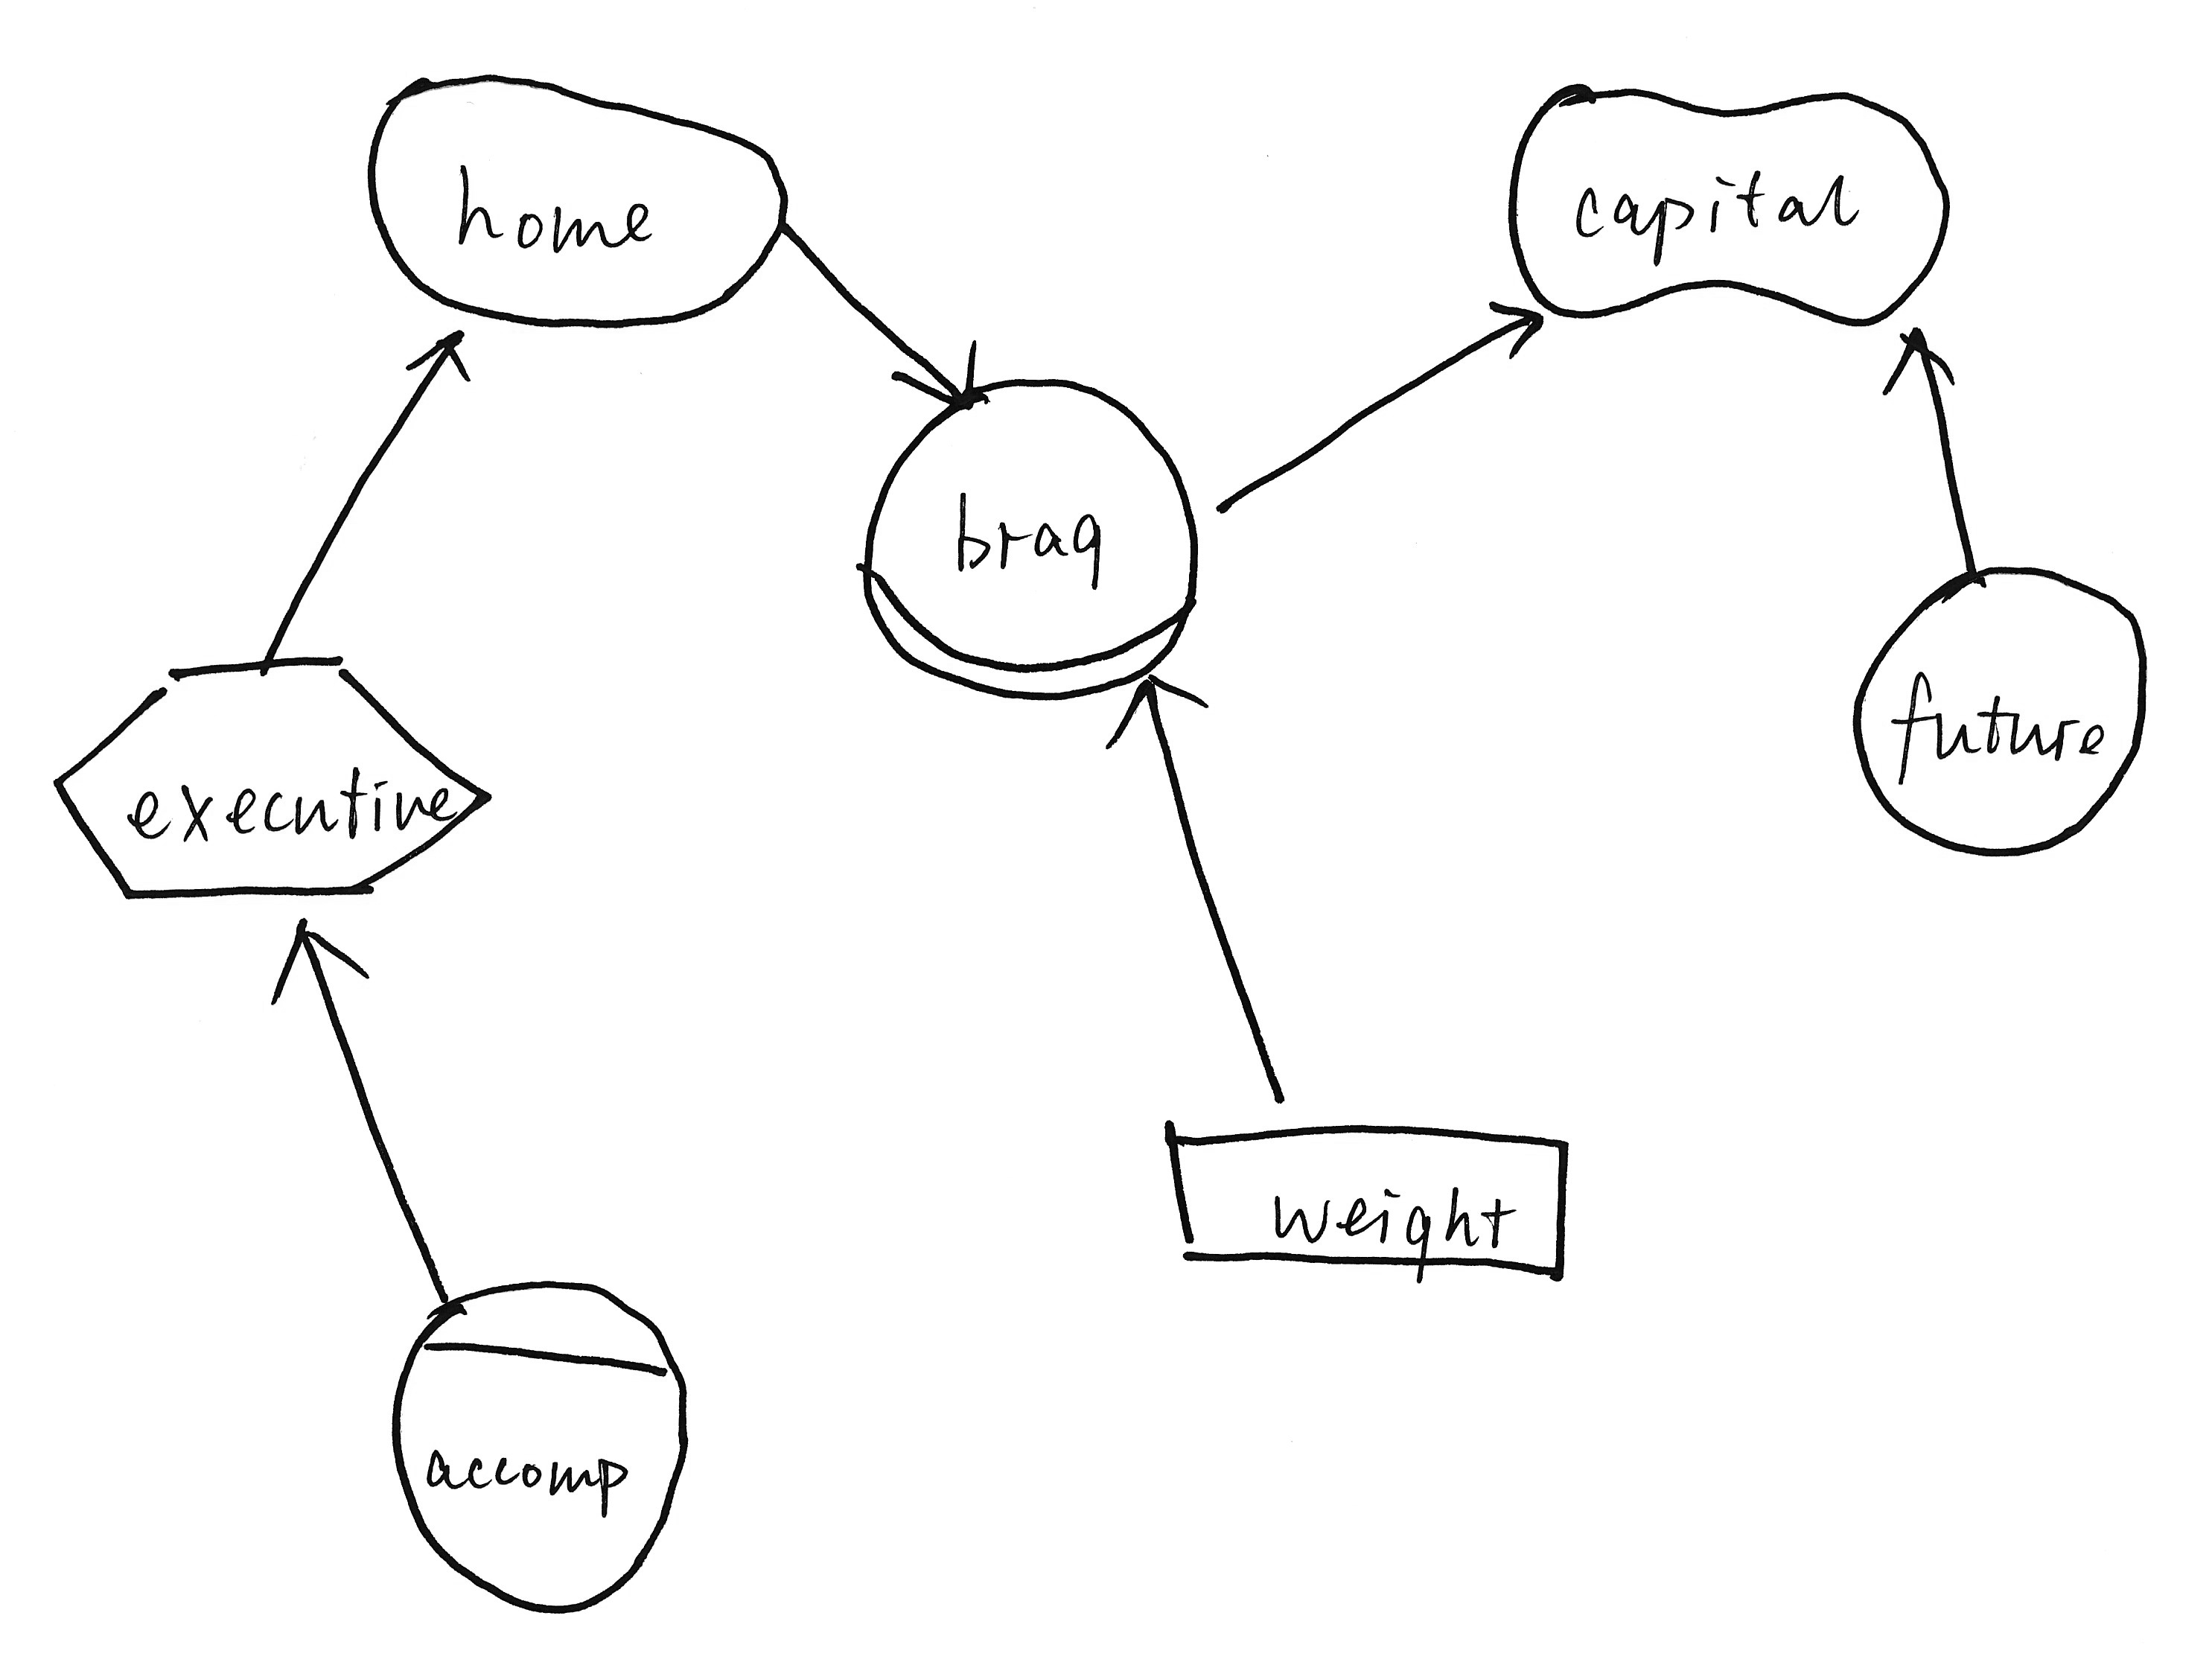actor: (1839, 543, 2161, 871)
agent: (380, 1269, 701, 1628)
arrow: (254, 906, 380, 1018), (1086, 669, 1233, 755), (872, 336, 997, 422), (1874, 322, 1974, 405), (1476, 291, 1555, 385), (396, 321, 492, 398)
goal: (342, 53, 813, 338)
quality: (1490, 60, 1960, 343)
resource: (1149, 1092, 1589, 1309)
role: (846, 359, 1214, 715)
task: (33, 641, 508, 915)
